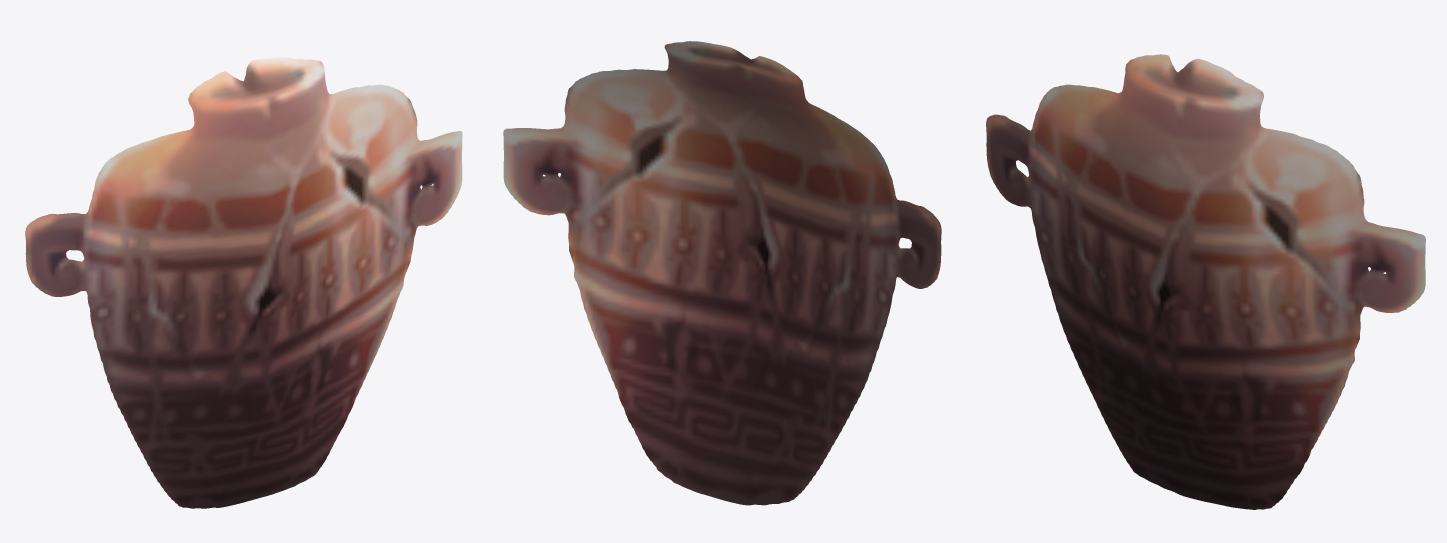
Rendered from Vase.FBX.
The picture shows the model from 3 angles, left to right: view 1: azimuth 30°, elevation 25°; view 2: azimuth 150°, elevation 25°; view 3: azimuth 330°, elevation 25°; orthographic projection.
Parts seen in each view (by area): view 1: Plane001; view 2: Plane001; view 3: Plane001.
Boxes of the visible parts, x1=… form: Plane001: x1=25, y1=57, x2=462, y2=508; Plane001: x1=503, y1=41, x2=941, y2=505; Plane001: x1=986, y1=54, x2=1425, y2=509.
Size of the model in its own units: 100 by 13.38 by 100.
